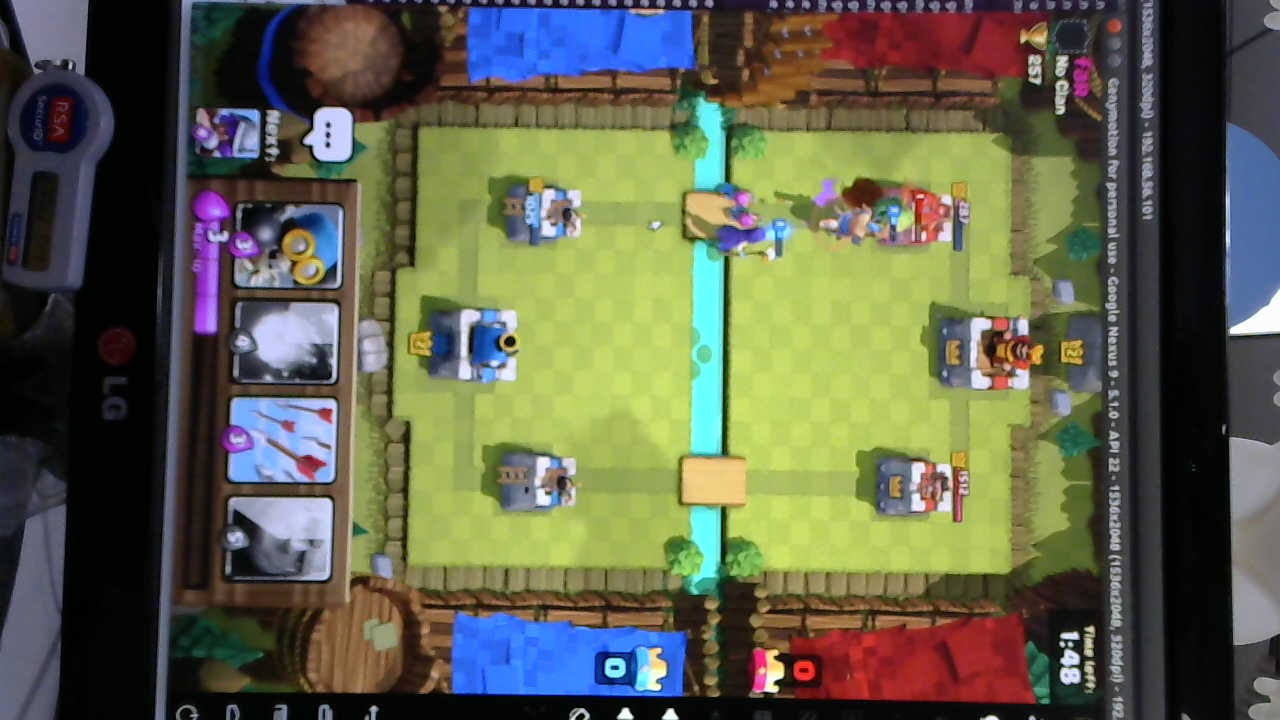archers: (713, 182, 763, 232)
arena: (497, 448, 580, 515), (502, 180, 586, 246)
earena: (872, 454, 956, 519), (890, 187, 959, 248)
eking: (933, 310, 1039, 395)
king: (427, 302, 526, 384)
prince: (820, 204, 888, 243)
witch: (707, 217, 780, 261)
